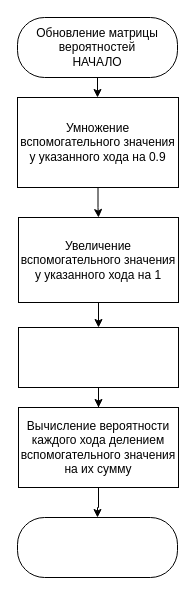
Image size: 196x595. Some labels were removed from this diagram. The centre of each missing label's shape, as x and y in pixels:
Обновление матрицы вероятностей КОНЕЦ: the point at 97,547
Подсчет суммы вспомогательных значений каждого хода: the point at 98,357
